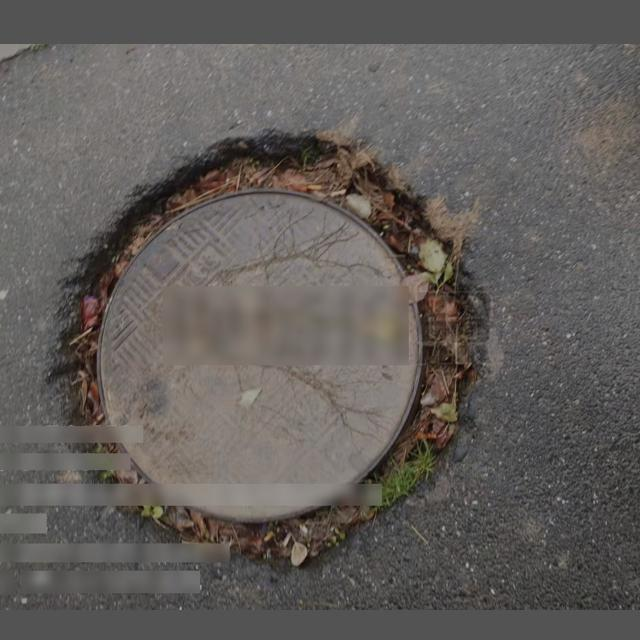circle: (44, 135, 489, 561)
